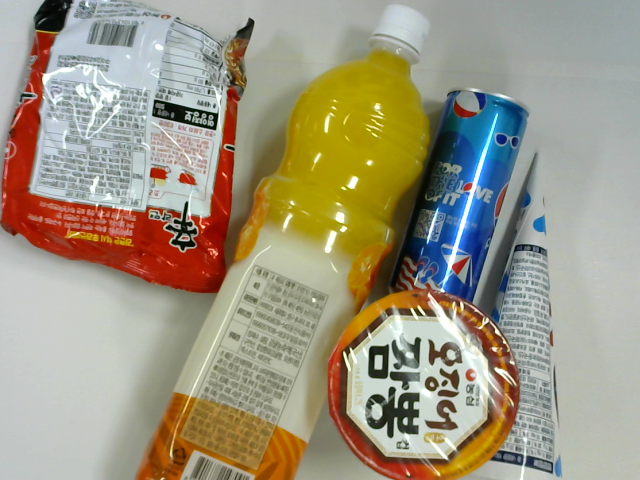Bravo_Cone_(Banila)_CVS: (442, 150, 566, 480)
Jeju_Tangerine_1.5L: (133, 4, 433, 479)
Ojjam: (328, 288, 522, 480)
Pepsi_Cola_Can_250ml: (386, 88, 533, 316)
Sinramen: (1, 1, 254, 294)
